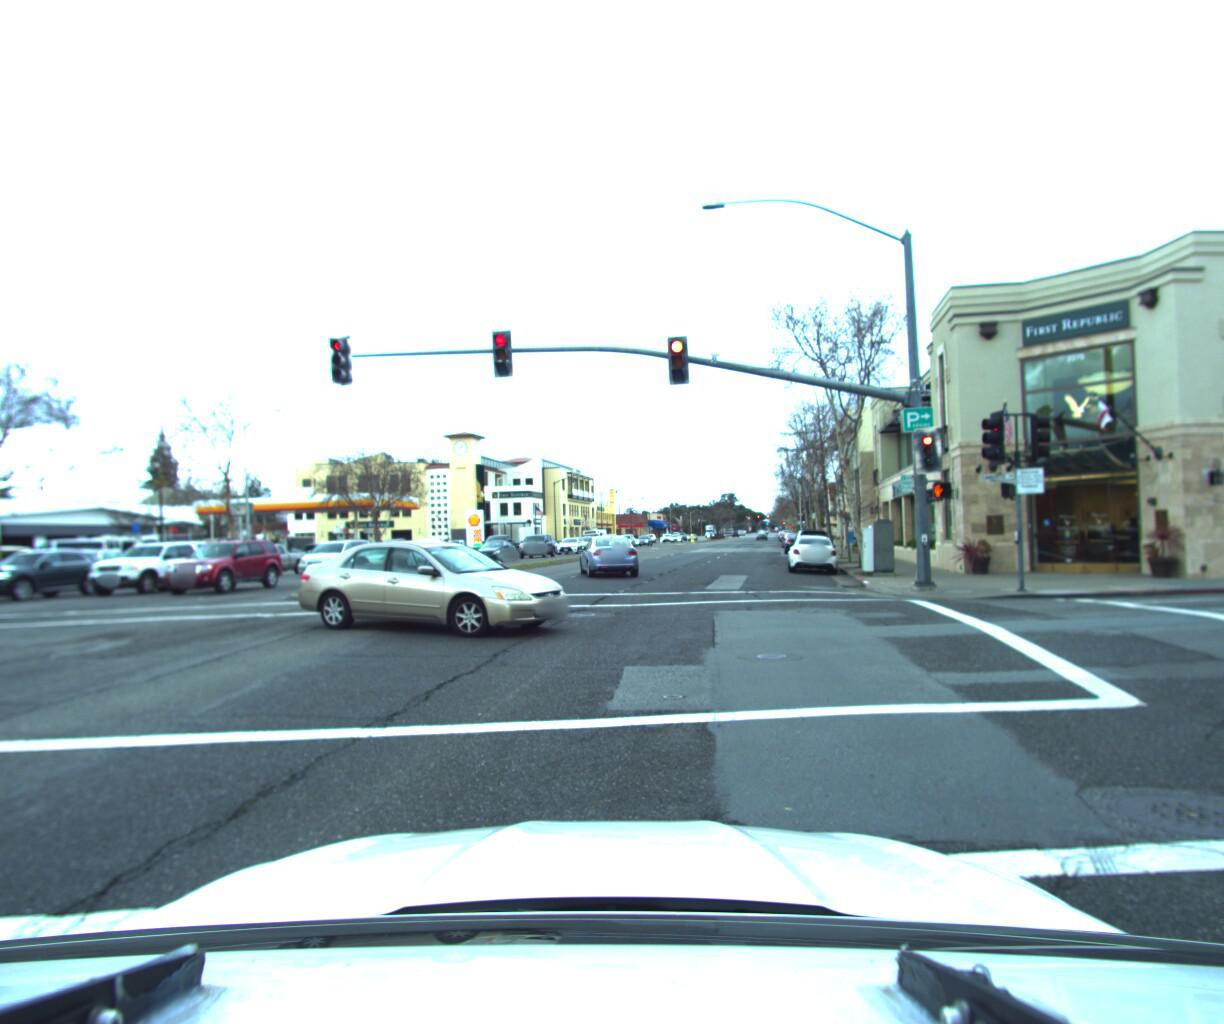car: (295, 532, 589, 637), (77, 537, 225, 597), (149, 533, 289, 595), (0, 547, 113, 606), (21, 535, 132, 574), (568, 525, 649, 578), (288, 538, 384, 578), (216, 542, 315, 580), (342, 541, 430, 578), (191, 534, 272, 573), (782, 528, 838, 573), (0, 543, 63, 576), (397, 534, 457, 566), (464, 537, 521, 562), (514, 531, 560, 558), (432, 536, 477, 559), (0, 549, 8, 649), (780, 529, 810, 551), (553, 534, 586, 553)
other_vehicle: (67, 531, 170, 569), (273, 532, 321, 559)
